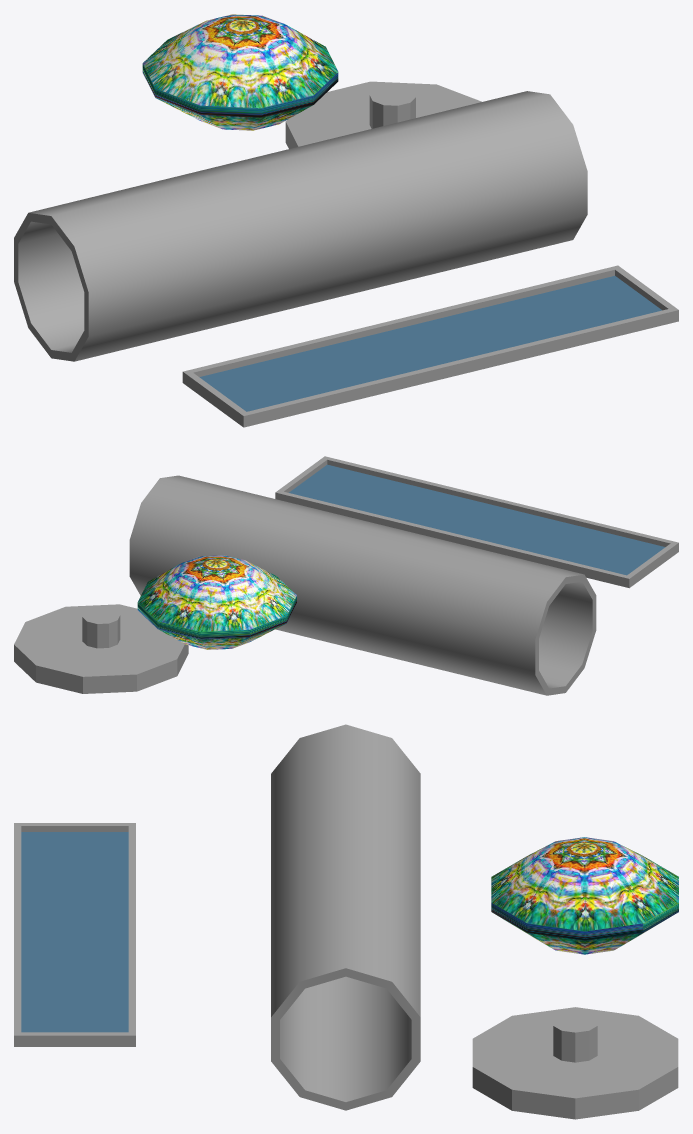
The model's file is kalidoscop1.fbx.
The picture shows the model from 3 angles, top to bottom: view 1: azimuth 30°, elevation 25°; view 2: azimuth 150°, elevation 25°; view 3: azimuth 270°, elevation 25°; orthographic projection. The views are drawn at different scales.
Parts seen in each view (by area): view 1: pCylinder2, pCube1, pCylinder4, pCylinder3; view 2: pCylinder2, pCube1, pCylinder3, pCylinder4; view 3: pCylinder2, pCube1, pCylinder3, pCylinder4.
Part boxes in pixels (x1,y1,x2,y2): pCylinder2: (14, 91, 587, 361); pCube1: (182, 265, 678, 427); pCylinder4: (142, 14, 338, 130); pCylinder3: (285, 81, 481, 148); pCylinder2: (129, 475, 596, 695); pCube1: (275, 456, 678, 588); pCylinder3: (14, 604, 188, 693); pCylinder4: (137, 555, 296, 649); pCylinder2: (271, 724, 420, 1110); pCube1: (14, 823, 135, 1046); pCylinder3: (472, 1007, 678, 1119); pCylinder4: (491, 837, 678, 954).
Bounding box in the file's own units: 112 × 33.91 × 118.
Materials: 3 (1 with a texture image).
